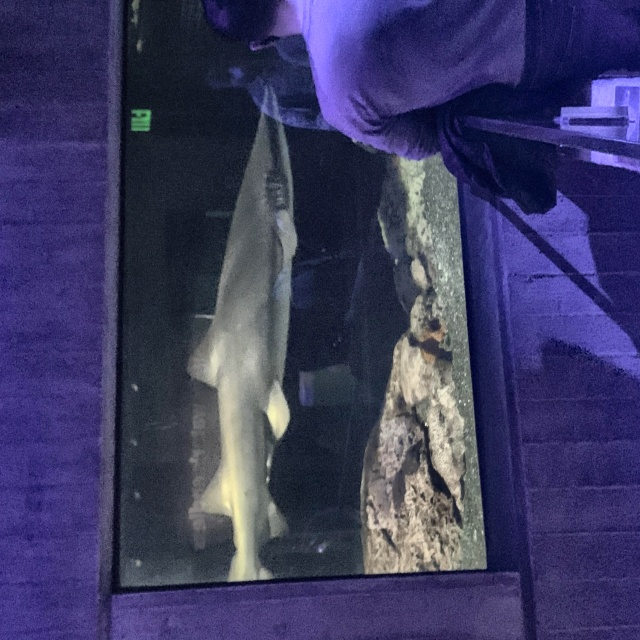shark: (183, 83, 300, 586)
